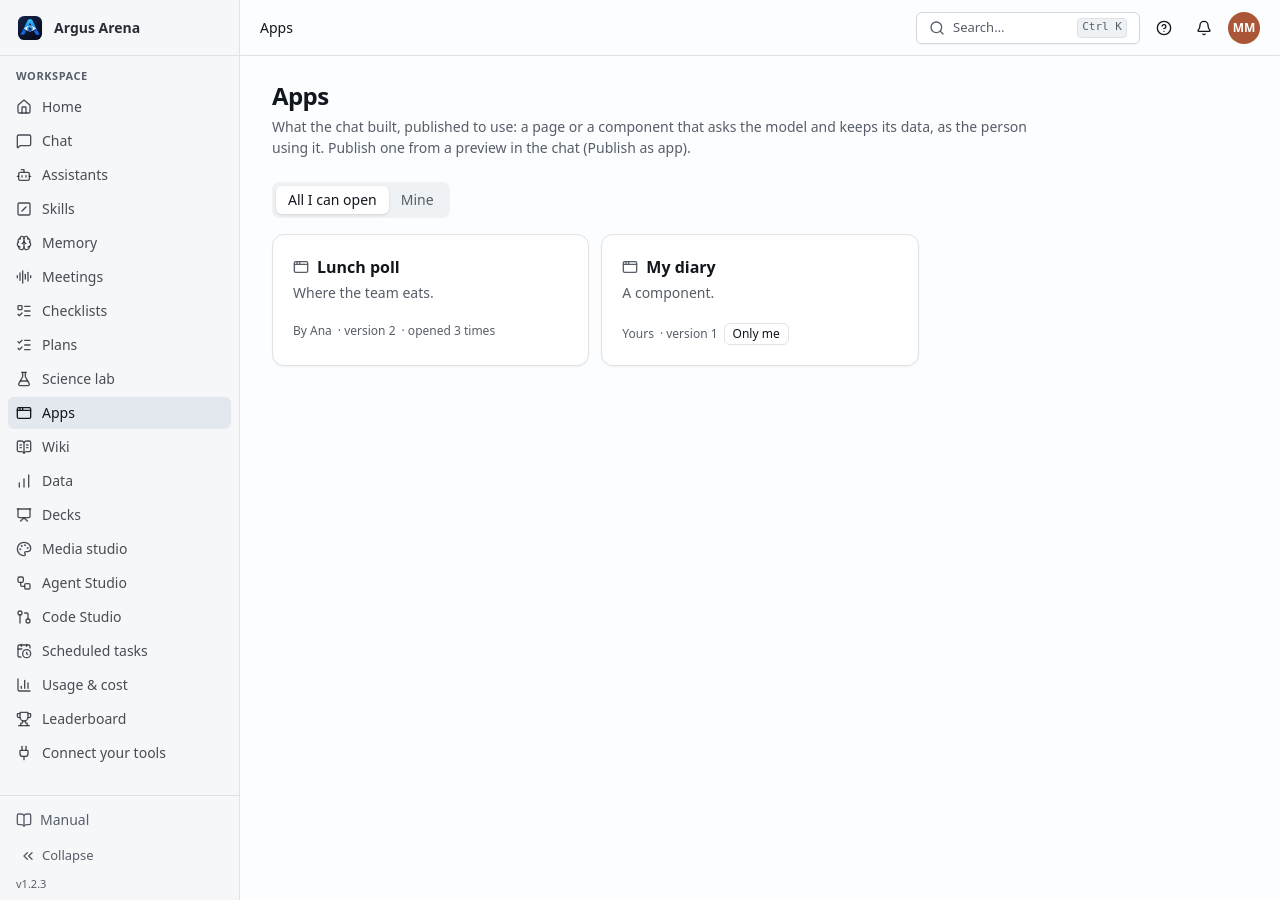
Test: apps › the gallery lists the apps one may open, and Mine only one’s own
Expected: the link "My diary A component. Yours · version 1 Only me" is shown, [601, 234, 919, 366]
Click the radio button labelled "Mine": (417, 200) [389, 186, 446, 214]
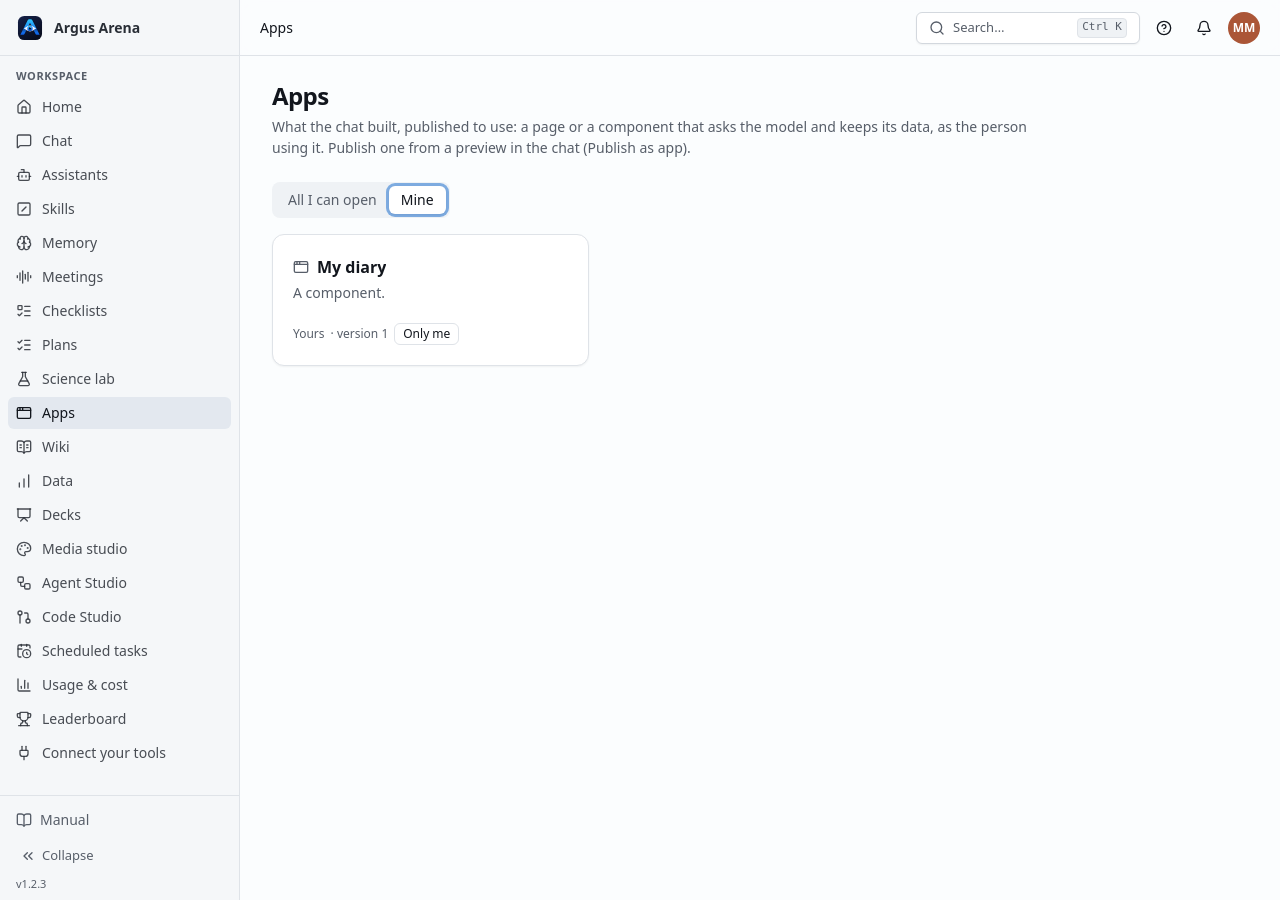
Expected: the link "Lunch poll" is gone
